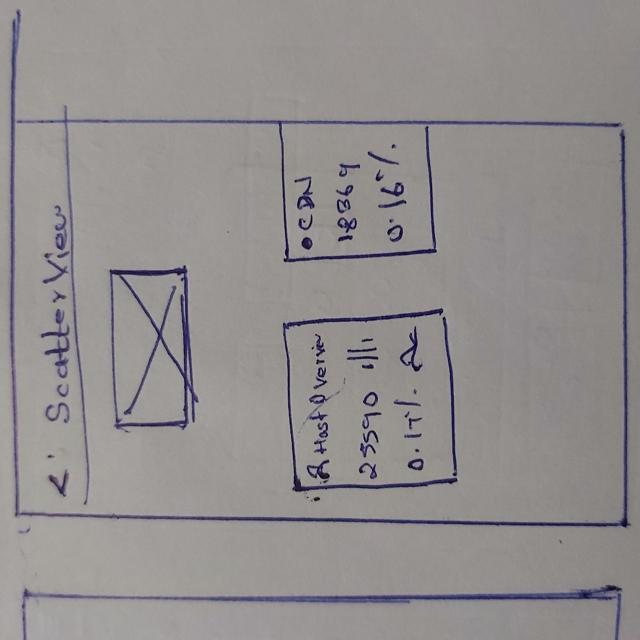AppBar: (8, 119, 89, 518)
BackButton: (44, 471, 77, 501)
Image: (110, 267, 192, 430)
Layout: (281, 318, 458, 490), (275, 119, 440, 261)
MainLayout: (5, 109, 634, 531)
TextView: (41, 201, 76, 422), (346, 333, 387, 482), (303, 336, 337, 482), (399, 329, 431, 477), (373, 145, 408, 243), (336, 156, 362, 245), (296, 174, 321, 245)
